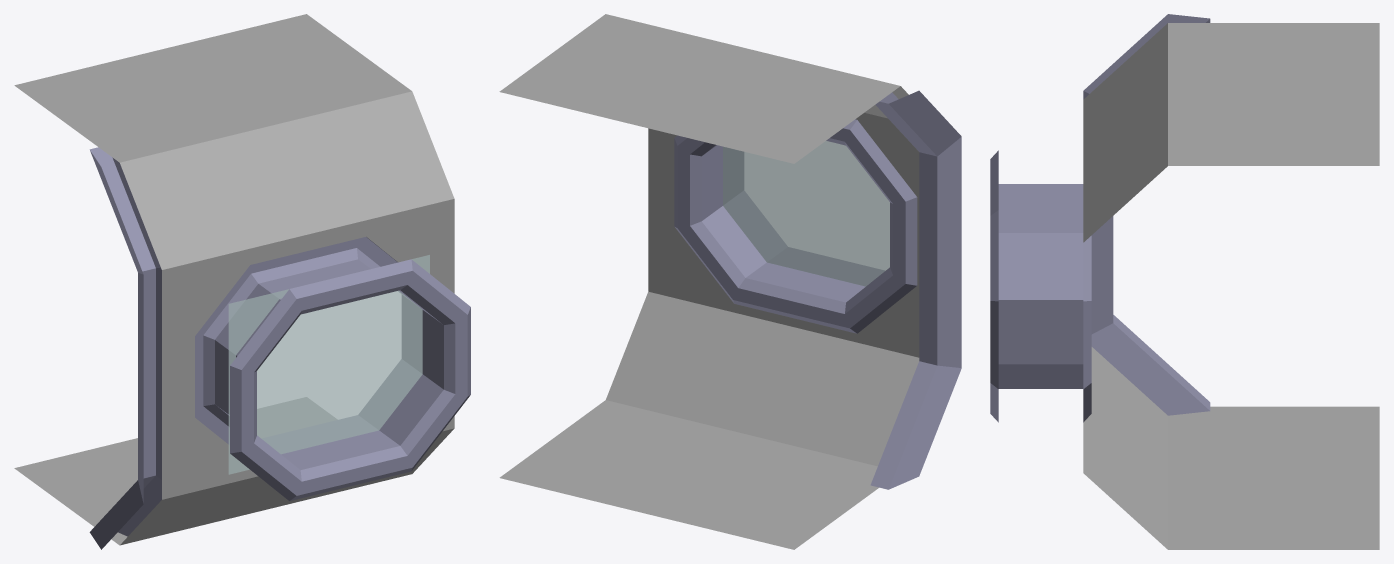
The model's file is SS_Tile_WindowSingle_v05.fbx.
3 views of the same model, side by side, from view 1: azimuth 30°, elevation 25°; view 2: azimuth 150°, elevation 25°; view 3: azimuth 270°, elevation 25° (orthographic).
Visible parts, largest first — view 1: Tile_WindowSingle00; view 2: Tile_WindowSingle00; view 3: Tile_WindowSingle00.
Boxes of the visible parts, <box> form: Tile_WindowSingle00: <box>14,14,470,549</box>; Tile_WindowSingle00: <box>499,14,961,549</box>; Tile_WindowSingle00: <box>990,14,1379,549</box>.
Bounding box in the file's own units: 2.12 × 2.5 × 2.3.
